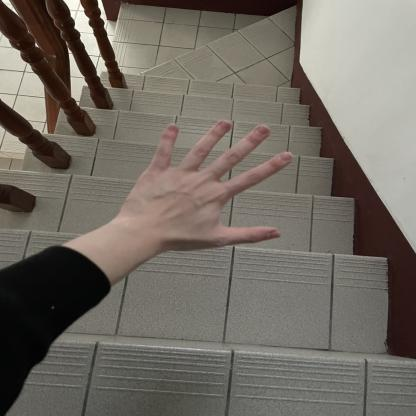bare_hand: (110, 106, 300, 268)
